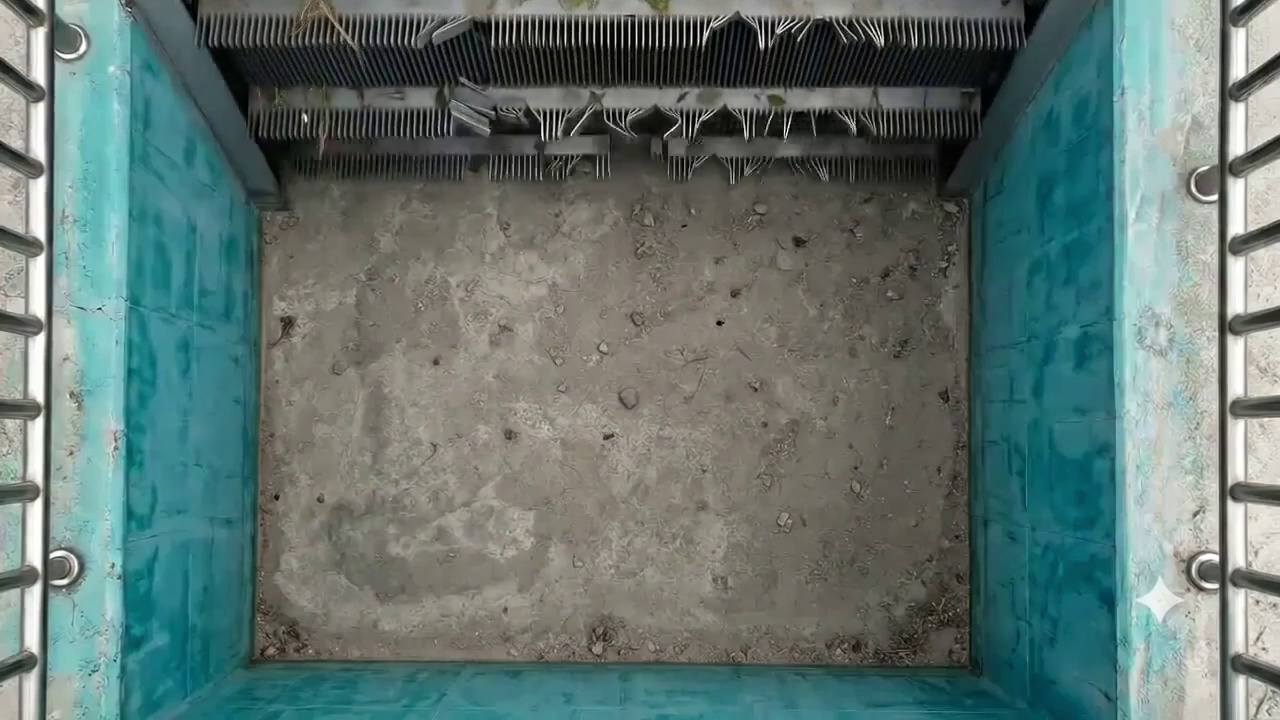damage: (560, 102, 890, 141), (693, 8, 920, 51), (617, 155, 848, 189), (441, 99, 549, 146), (414, 12, 511, 51), (534, 151, 614, 182)
